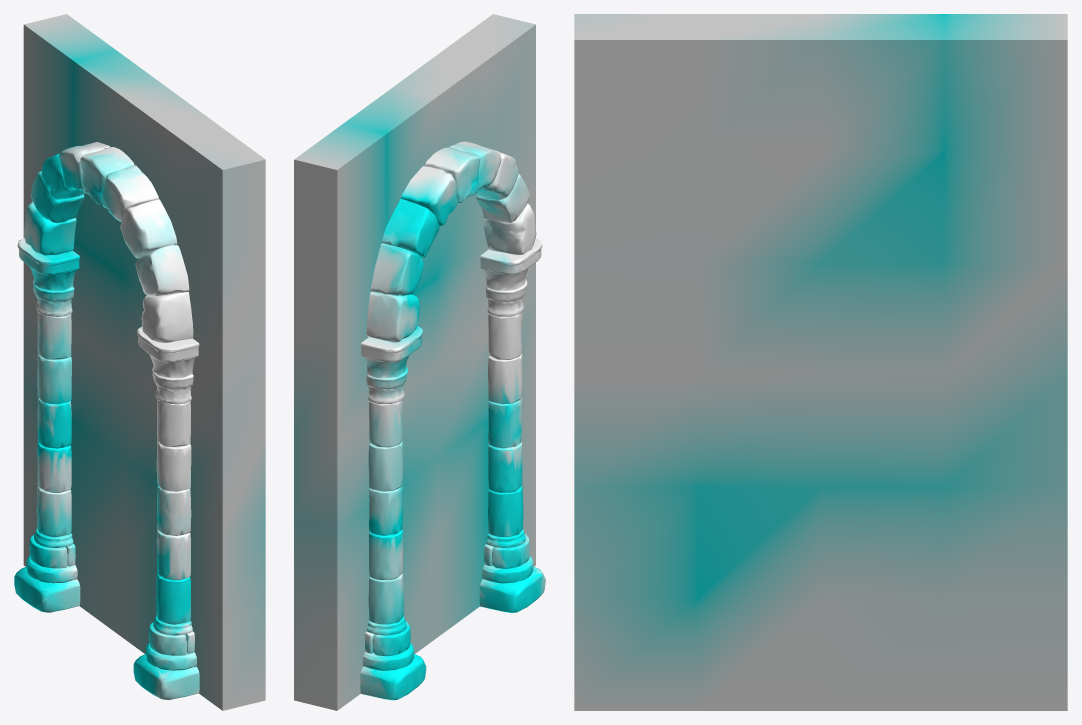
Rendered from SM_ArchWall_Blind_4x6_A.fbx.
3 renders of one model, left to right at view 1: azimuth 30°, elevation 25°; view 2: azimuth 150°, elevation 25°; view 3: azimuth 270°, elevation 25°, orthographic. The views are drawn at different scales.
Visible parts, largest first — view 1: SM_ArchWall_Blind_4x6_A_LOD0; view 2: SM_ArchWall_Blind_4x6_A_LOD0; view 3: SM_ArchWall_Blind_4x6_A_LOD0.
Boxes of the visible parts, left/top/right/bottom form: SM_ArchWall_Blind_4x6_A_LOD0: left=14, top=14, right=265, bottom=710; SM_ArchWall_Blind_4x6_A_LOD0: left=294, top=14, right=545, bottom=710; SM_ArchWall_Blind_4x6_A_LOD0: left=574, top=14, right=1067, bottom=710.
Bounding box in the file's own units: 92.54 × 400 × 601.
